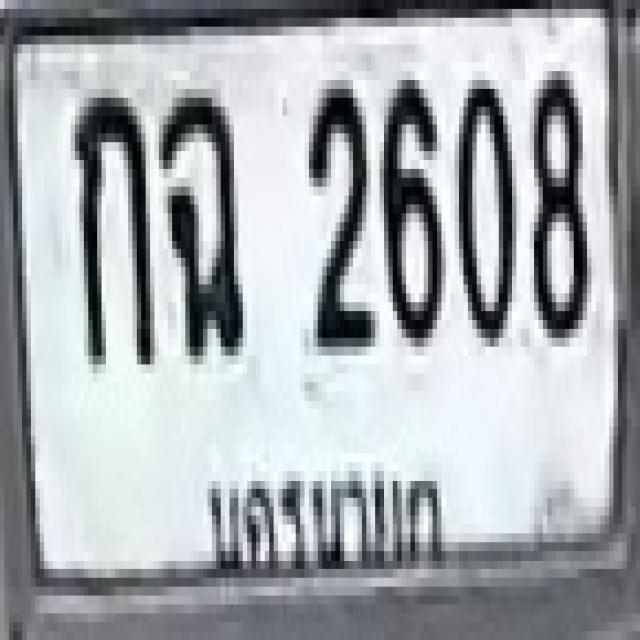0: (455, 71, 512, 338)
2: (306, 76, 368, 342)
6: (382, 71, 439, 338)
8: (530, 67, 582, 333)
A01: (71, 84, 150, 360)
A09: (159, 89, 238, 355)
NYK: (197, 446, 453, 586)
